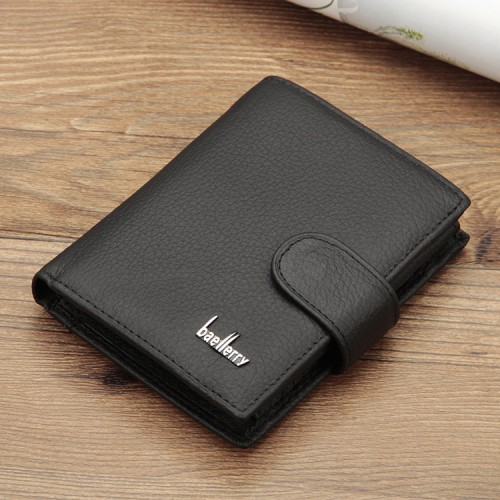monedero: (30, 73, 476, 452)
